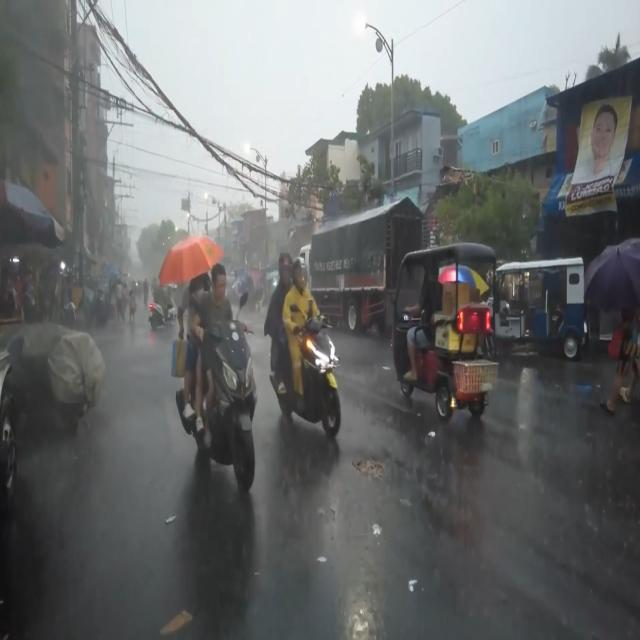full: (292, 255, 310, 294), (279, 250, 293, 287)
not_wearing: (210, 263, 227, 300)
